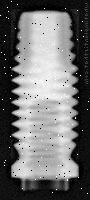Neodent: (11, 9, 79, 181)
